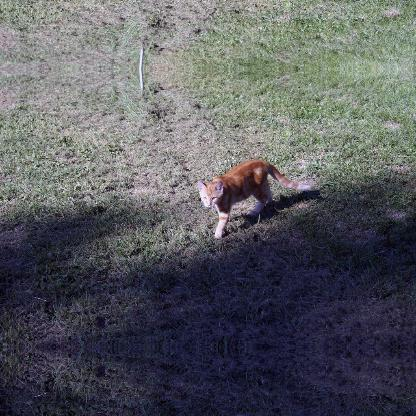Cat: (197, 156, 312, 238)
